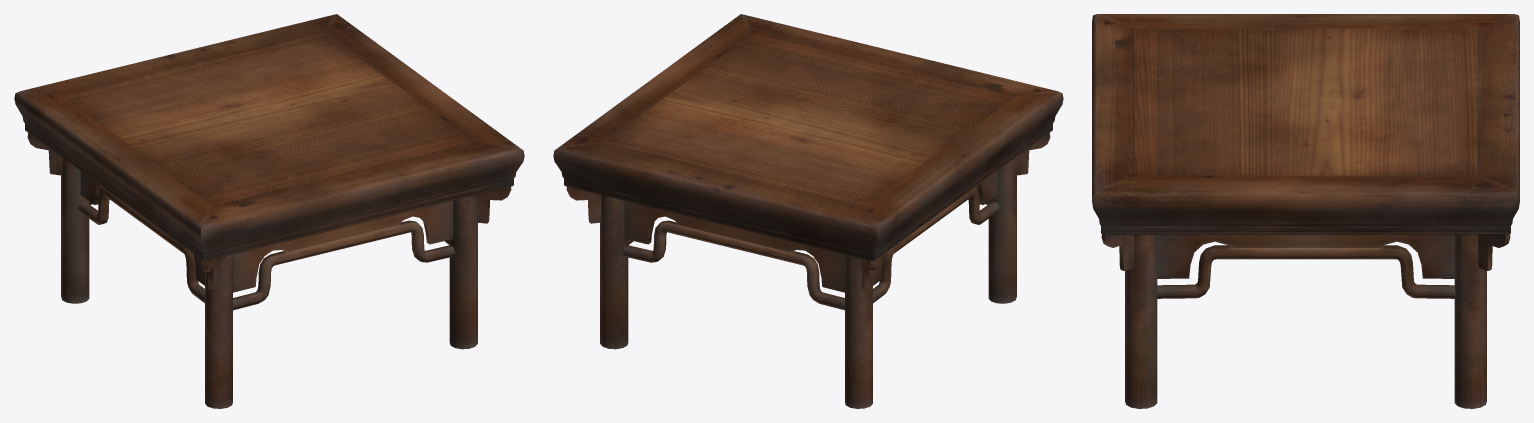
The model's file is chinese_tea_table_pieces.fbx.
3 views of the same model, side by side, from view 1: azimuth 30°, elevation 25°; view 2: azimuth 150°, elevation 25°; view 3: azimuth 270°, elevation 25° (orthographic). The views are drawn at different scales.
Visible parts, largest first — view 1: chinese_tea_table.001, chinese_tea_table.008, chinese_tea_table.016, chinese_tea_table.010, chinese_tea_table.012, chinese_tea_table.011, chinese_tea_table.015, chinese_tea_table.013, chinese_tea_table.009, chinese_tea_table.014; view 2: chinese_tea_table.001, chinese_tea_table.002, chinese_tea_table.012, chinese_tea_table.005, chinese_tea_table.016, chinese_tea_table.007, chinese_tea_table.015, chinese_tea_table.013, chinese_tea_table.004, chinese_tea_table.017; view 3: chinese_tea_table.001, chinese_tea_table.003, chinese_tea_table.002, chinese_tea_table.008, chinese_tea_table.006, chinese_tea_table.004, chinese_tea_table.009.
Part boxes in pixels (x1,y1,x2,y2): chinese_tea_table.001: [14, 14, 524, 261]; chinese_tea_table.008: [449, 195, 477, 349]; chinese_tea_table.016: [205, 254, 232, 408]; chinese_tea_table.010: [233, 201, 453, 292]; chinese_tea_table.012: [61, 157, 89, 303]; chinese_tea_table.011: [233, 220, 455, 310]; chinese_tea_table.015: [77, 187, 204, 302]; chinese_tea_table.013: [80, 171, 204, 285]; chinese_tea_table.009: [477, 186, 511, 223]; chinese_tea_table.014: [27, 133, 61, 175]; chinese_tea_table.001: [553, 14, 1063, 261]; chinese_tea_table.002: [600, 195, 628, 349]; chinese_tea_table.012: [845, 254, 872, 408]; chinese_tea_table.005: [624, 201, 844, 292]; chinese_tea_table.016: [988, 157, 1016, 303]; chinese_tea_table.007: [622, 220, 844, 310]; chinese_tea_table.015: [873, 187, 1000, 302]; chinese_tea_table.013: [873, 171, 997, 285]; chinese_tea_table.004: [566, 186, 600, 223]; chinese_tea_table.017: [1016, 133, 1050, 175]; chinese_tea_table.001: [1092, 14, 1519, 234]; chinese_tea_table.003: [1157, 234, 1454, 278]; chinese_tea_table.002: [1454, 234, 1486, 408]; chinese_tea_table.008: [1125, 234, 1157, 408]; chinese_tea_table.006: [1156, 245, 1455, 298]; chinese_tea_table.004: [1478, 234, 1510, 270]; chinese_tea_table.009: [1101, 234, 1133, 270].
Bounding box in the file's own units: 41.32 × 41.18 × 24.54.
